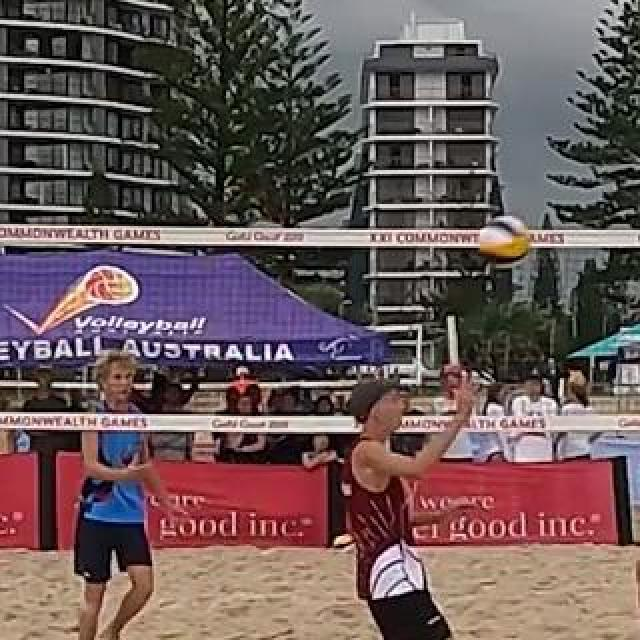volleyball: (479, 215, 531, 265)
